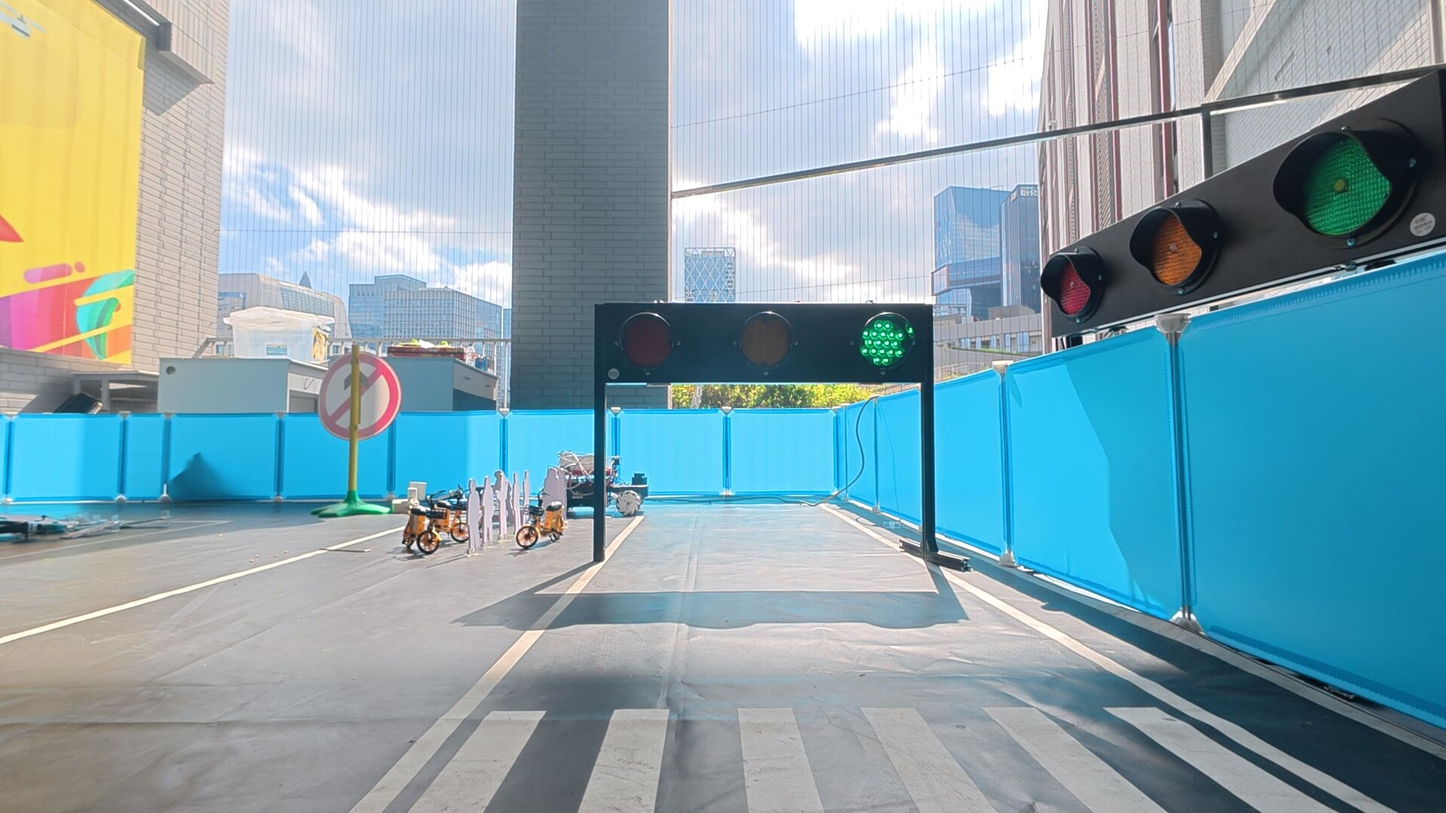go: (858, 312, 915, 373)
